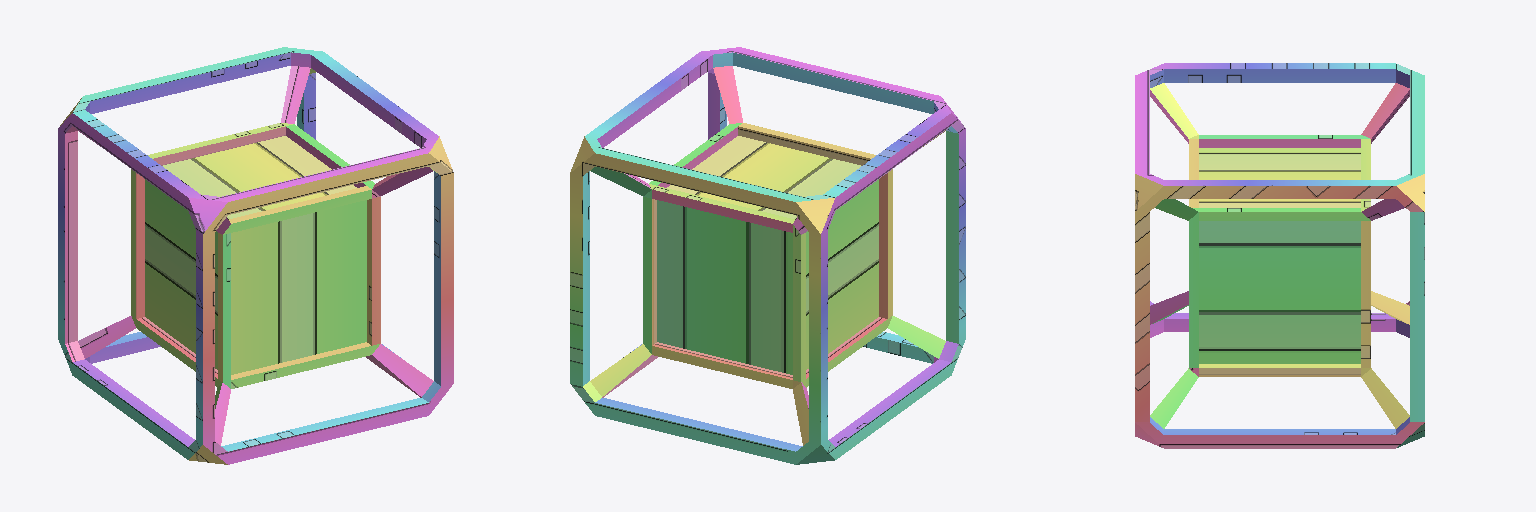
The picture shows the model from 3 angles: view 1: azimuth 30°, elevation 25°; view 2: azimuth 150°, elevation 25°; view 3: azimuth 270°, elevation 25°; orthographic projection.
Visible parts, largest first — view 1: Cube.001; view 2: Cube.001; view 3: Cube.001.
Boxes of the visible parts, <box> form: Cube.001: <box>58,47,453,464</box>; Cube.001: <box>570,47,965,464</box>; Cube.001: <box>1135,63,1424,448</box>.
Bounding box in the file's own units: 1 × 1 × 1.
1 materials, 1 textured.